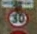limite 30: (5, 6, 29, 29)
